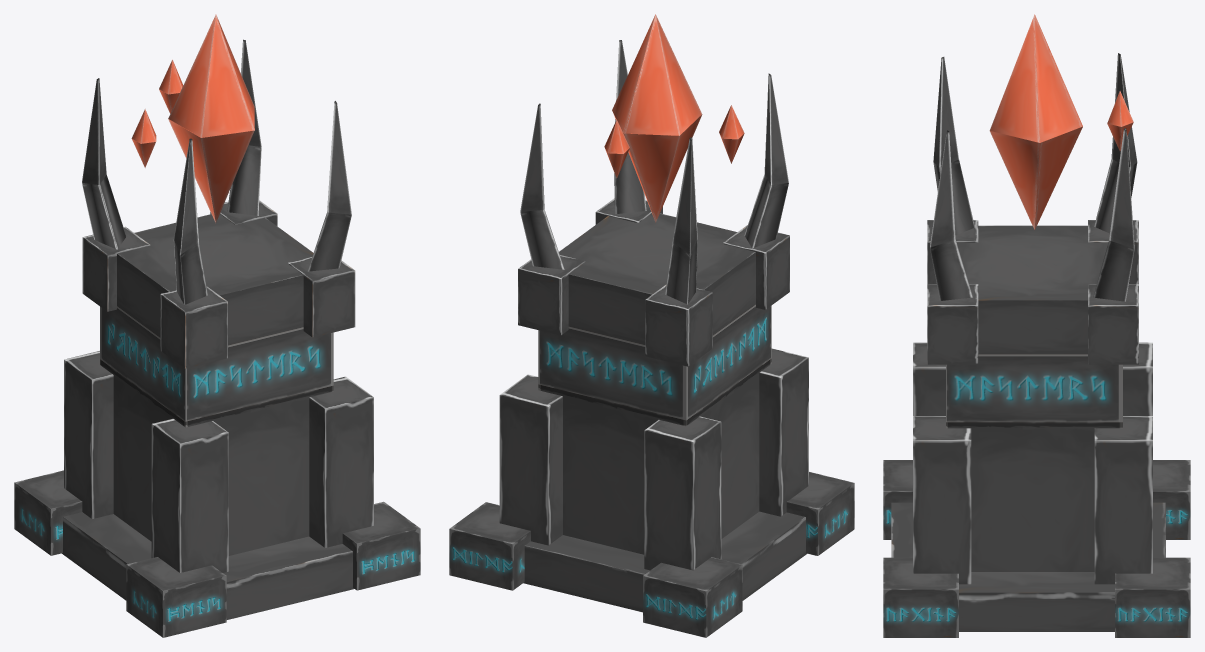
The model's file is magic_3.FBX.
The picture shows the model from 3 angles, left to right: view 1: azimuth 30°, elevation 25°; view 2: azimuth 150°, elevation 25°; view 3: azimuth 270°, elevation 25°; orthographic projection. The views are drawn at different scales.
Parts seen in each view (by area): view 1: Box576, Cone040, Cone039, Cone041; view 2: Box576, Cone040, Cone041, Cone039; view 3: Box576, Cone040, Cone041.
Boxes of the visible parts, x1,y1,x2,y2 form: Box576: [14, 39, 420, 637]; Cone040: [168, 14, 254, 222]; Cone039: [131, 109, 156, 167]; Cone041: [159, 59, 183, 113]; Box576: [449, 40, 854, 637]; Cone040: [612, 14, 702, 222]; Cone041: [604, 120, 629, 178]; Cone039: [719, 105, 744, 163]; Box576: [883, 53, 1190, 637]; Cone040: [989, 14, 1082, 229]; Cone041: [1107, 91, 1133, 151].
Size of the model in its own units: 44.79 by 89.97 by 44.81.
